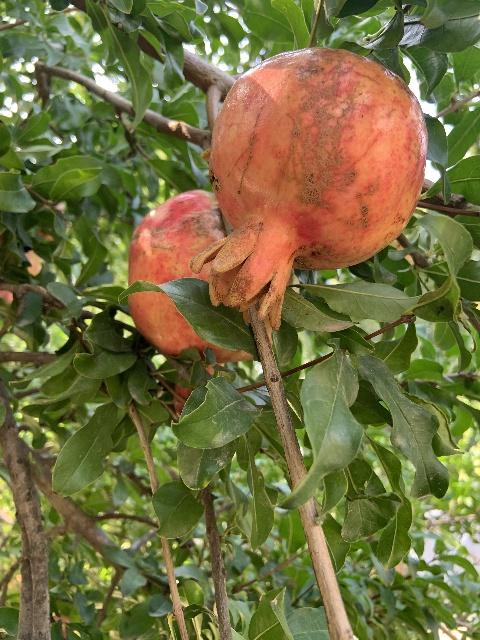ripe: (190, 47, 428, 331), (127, 190, 253, 416)
